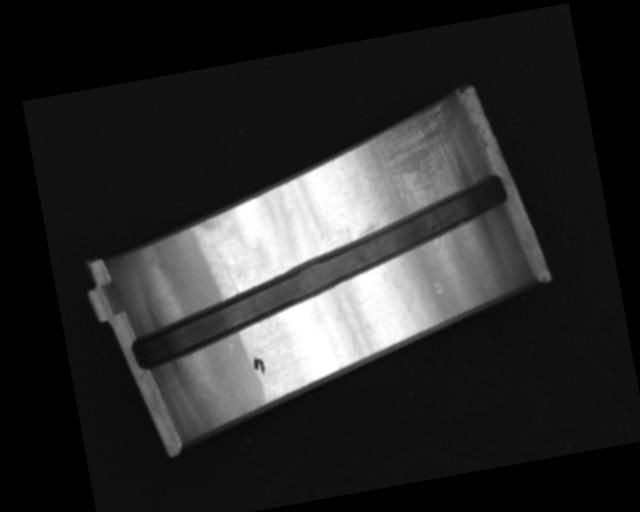blot: (250, 355, 268, 378)
bruise: (432, 280, 444, 295)
gap: (113, 176, 524, 372)
nick: (217, 252, 238, 298)
scratch: (336, 97, 475, 237)
